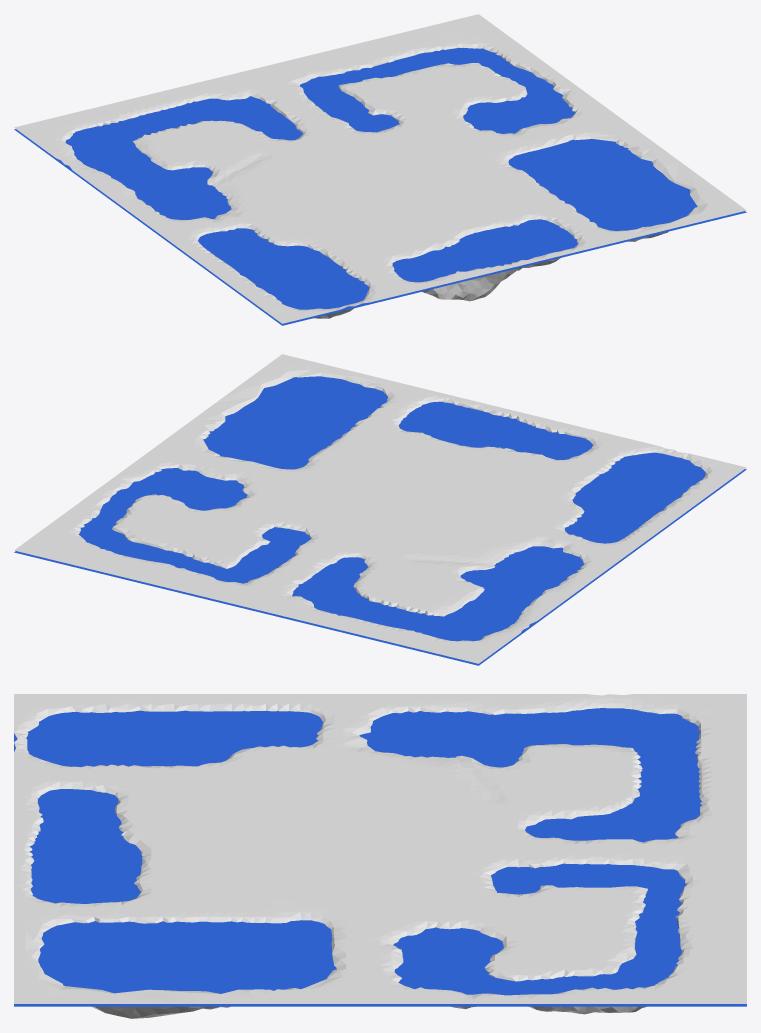
Rendered from map 1.fbx.
3 views of the same model, one above another, from view 1: azimuth 30°, elevation 25°; view 2: azimuth 150°, elevation 25°; view 3: azimuth 270°, elevation 25° (orthographic). The views are drawn at different scales.
Visible parts, largest first — view 1: Plane, waterPlane; view 2: Plane, waterPlane; view 3: Plane, waterPlane.
Boxes of the visible parts, <box> form: Plane: <box>14,14,746,323</box>; waterPlane: <box>14,48,746,325</box>; Plane: <box>14,354,746,663</box>; waterPlane: <box>14,376,746,665</box>; Plane: <box>14,694,746,1018</box>; waterPlane: <box>14,708,746,1006</box>.
Bounding box in the file's own units: 42337 × 3209 × 42337.
